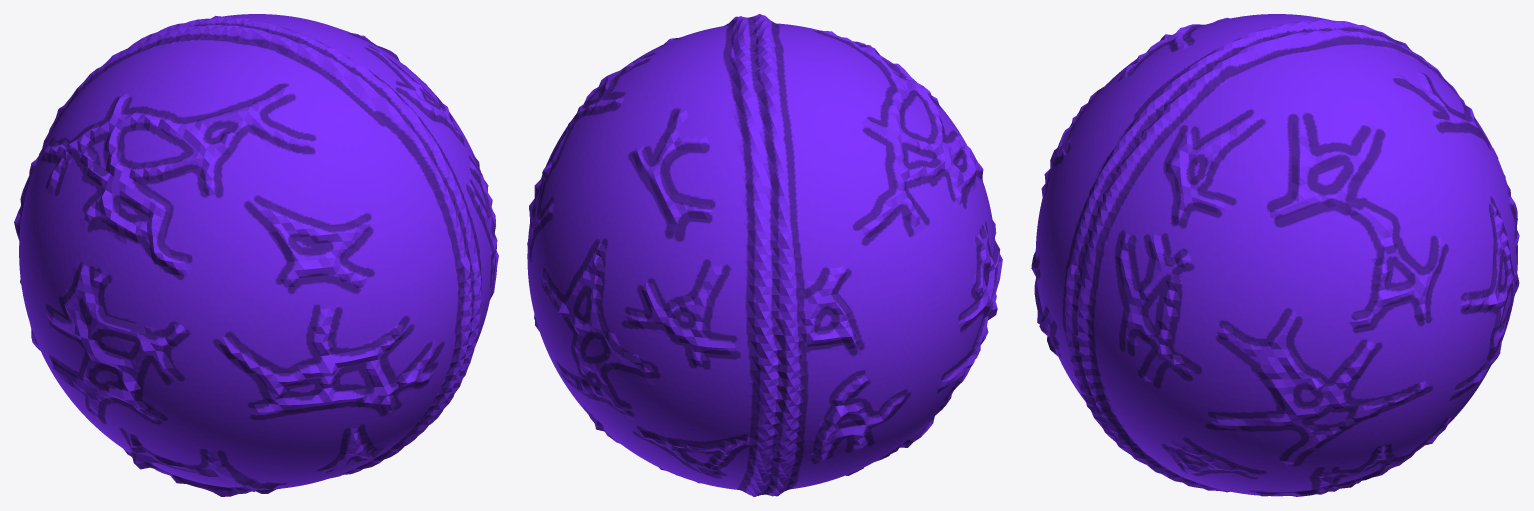
The model's file is golden_egg.glb.
The picture shows the model from 3 angles, left to right: view 1: azimuth 30°, elevation 25°; view 2: azimuth 150°, elevation 25°; view 3: azimuth 270°, elevation 25°; orthographic projection. The views are drawn at different scales.
Parts seen in each view (by area): view 1: Icosphere; view 2: Icosphere; view 3: Icosphere.
Boxes of the visible parts, x1=… form: Icosphere: x1=14, y1=14, x2=498, y2=496; Icosphere: x1=527, y1=14, x2=1002, y2=496; Icosphere: x1=1031, y1=14, x2=1519, y2=496.
Bounding box in the file's own units: 2.03 × 2.06 × 2.03.
Materials: 1 (1 with a texture image).
